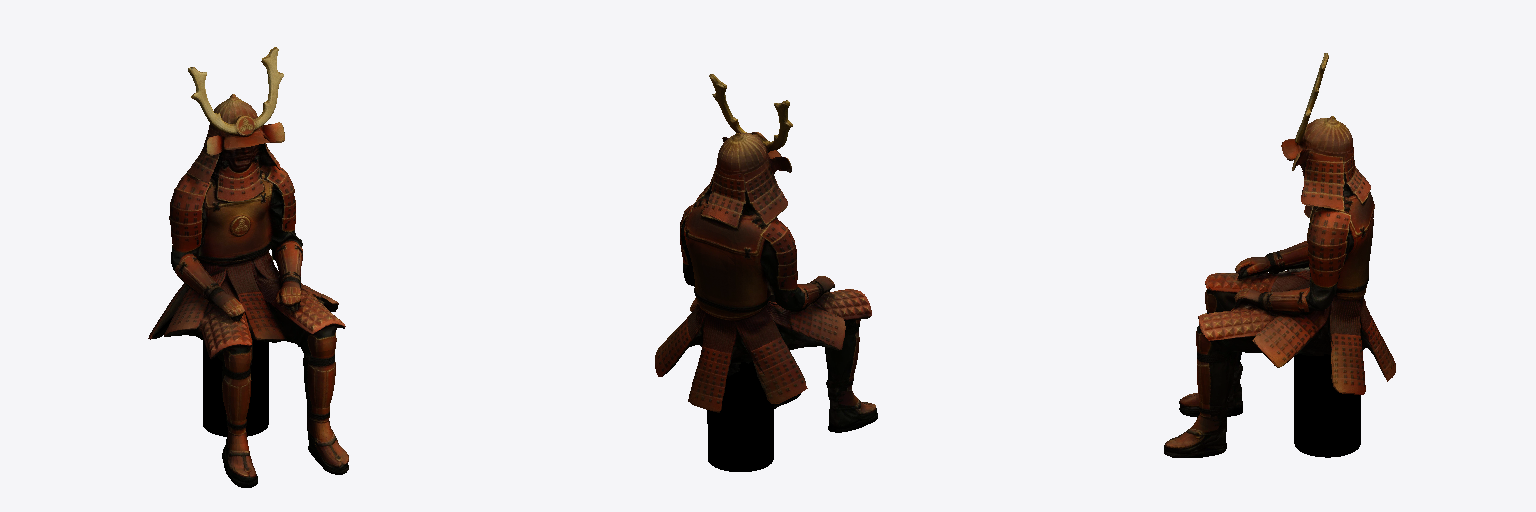
The picture shows the model from 3 angles: view 1: azimuth 30°, elevation 25°; view 2: azimuth 150°, elevation 25°; view 3: azimuth 270°, elevation 25°; orthographic projection.
Parts seen in each view (by area): view 1: OrientSamuraj; view 2: OrientSamuraj; view 3: OrientSamuraj.
Part boxes in pixels (x1,y1,x2,y2): OrientSamuraj: (148, 47, 348, 487); OrientSamuraj: (655, 74, 877, 471); OrientSamuraj: (1164, 53, 1395, 457).
Bounding box in the file's own units: 2.08 × 4.48 × 2.54.
2 materials, 1 textured.